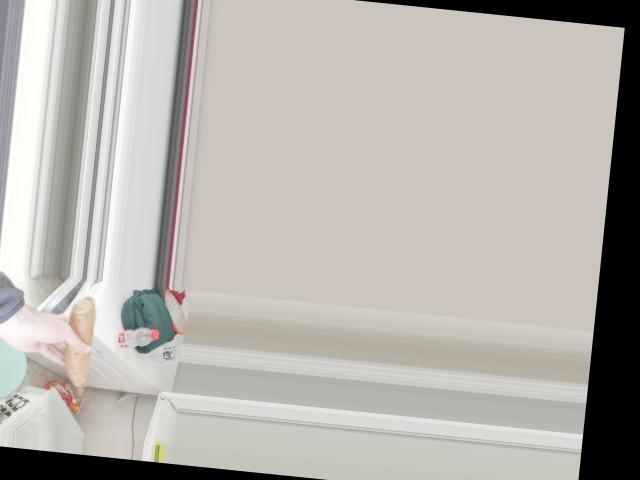sweet_potato: (61, 304, 95, 391)
